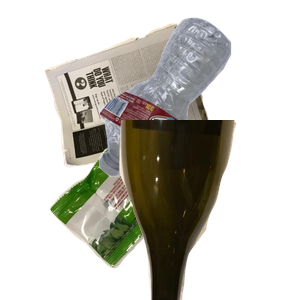glass: (117, 120, 300, 300)
paper: (42, 21, 249, 181)
plastic: (96, 15, 300, 184)
trash: (47, 146, 220, 300)
